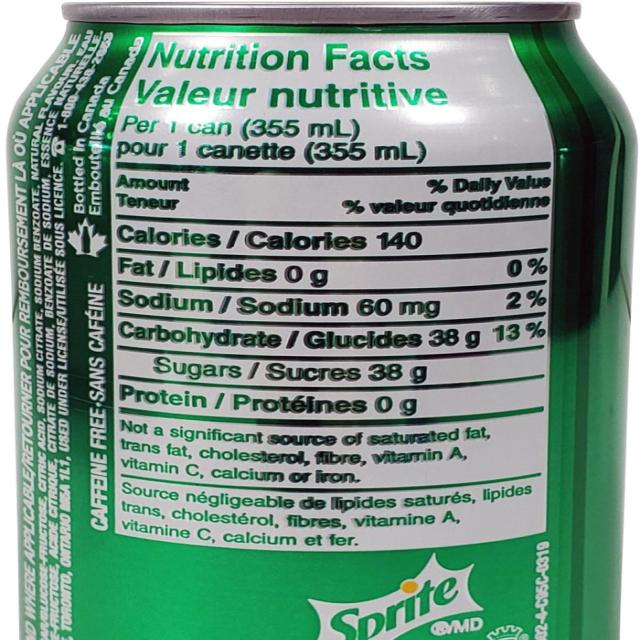sprite: (9, 0, 620, 636)
